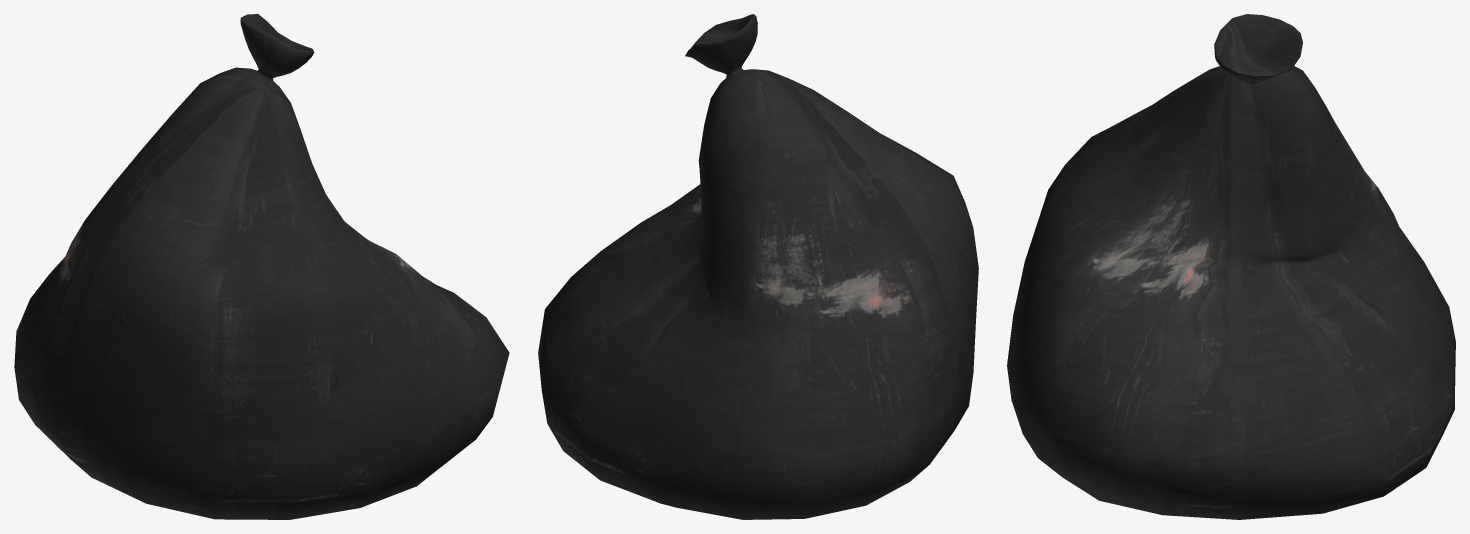
The model's file is trash_bag03.fbx.
The picture shows the model from 3 angles, left to right: view 1: azimuth 30°, elevation 25°; view 2: azimuth 150°, elevation 25°; view 3: azimuth 270°, elevation 25°; orthographic projection. The views are drawn at different scales.
Visible parts, largest first — view 1: trash_bag03; view 2: trash_bag03; view 3: trash_bag03.
Part boxes in pixels (bbox=[...]): trash_bag03: bbox=[14, 14, 509, 519]; trash_bag03: bbox=[538, 14, 978, 519]; trash_bag03: bbox=[1007, 14, 1455, 519].
Bounding box in the file's own units: 2.23 × 2.31 × 2.08.
